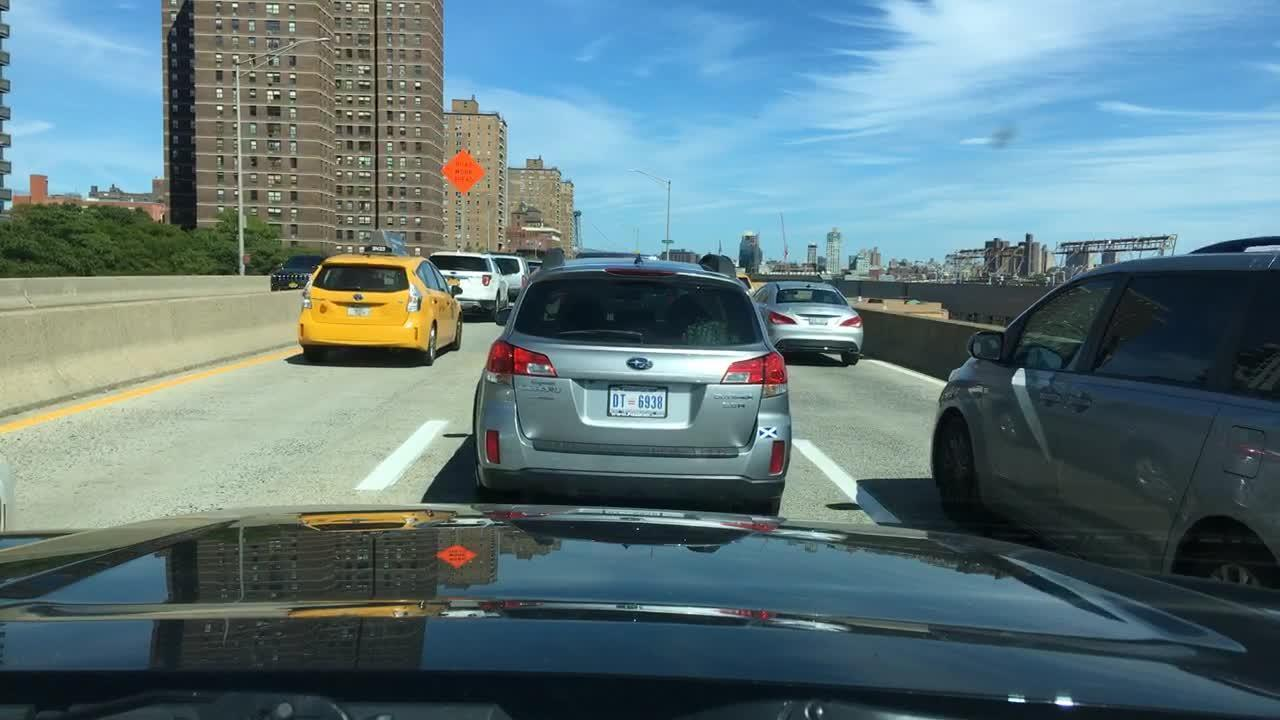Toyota: (350, 290, 367, 305)
subaru: (625, 354, 656, 377)
